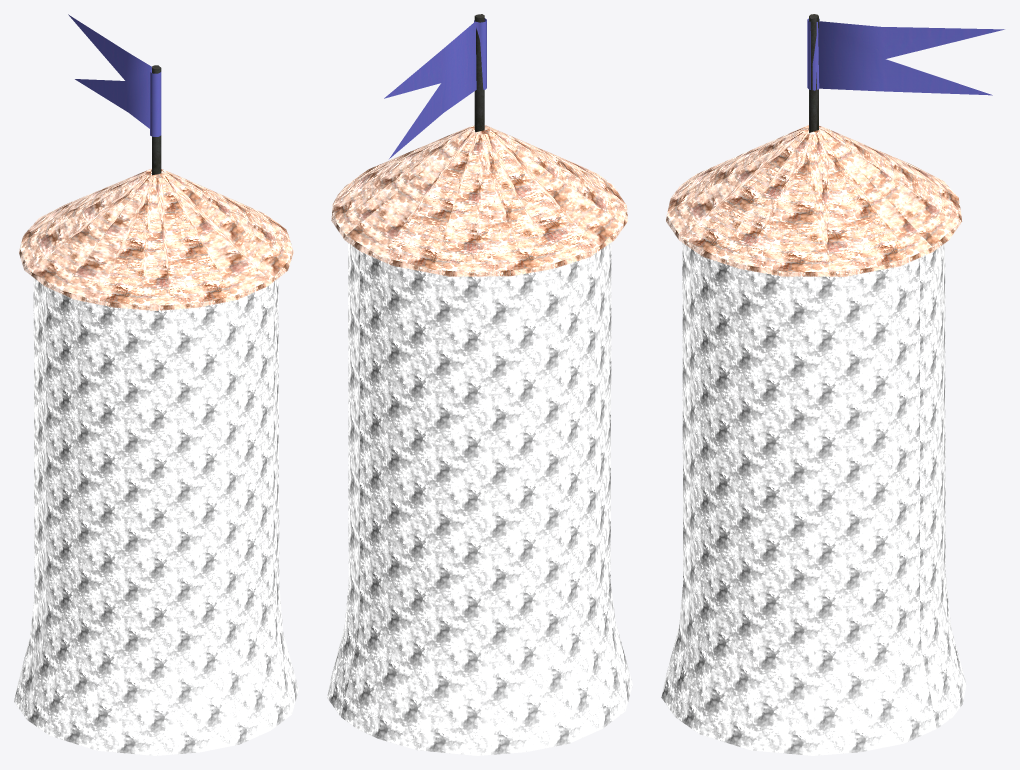
Rendered from SM_castle_tower_03.fbx.
3 renders of one model, left to right at view 1: azimuth 30°, elevation 25°; view 2: azimuth 150°, elevation 25°; view 3: azimuth 270°, elevation 25°, orthographic. The views are drawn at different scales.
Visible parts, largest first — view 1: SM_castle_tower_03_LOD0; view 2: SM_castle_tower_03_LOD0; view 3: SM_castle_tower_03_LOD0.
Part boxes in pixels (x1,y1,x2,y2): SM_castle_tower_03_LOD0: [14, 14, 298, 755]; SM_castle_tower_03_LOD0: [327, 14, 632, 755]; SM_castle_tower_03_LOD0: [661, 14, 1004, 755].
Size of the model in its own units: 1046 by 1182 by 2558.
Materials: 4 (4 with a texture image).
